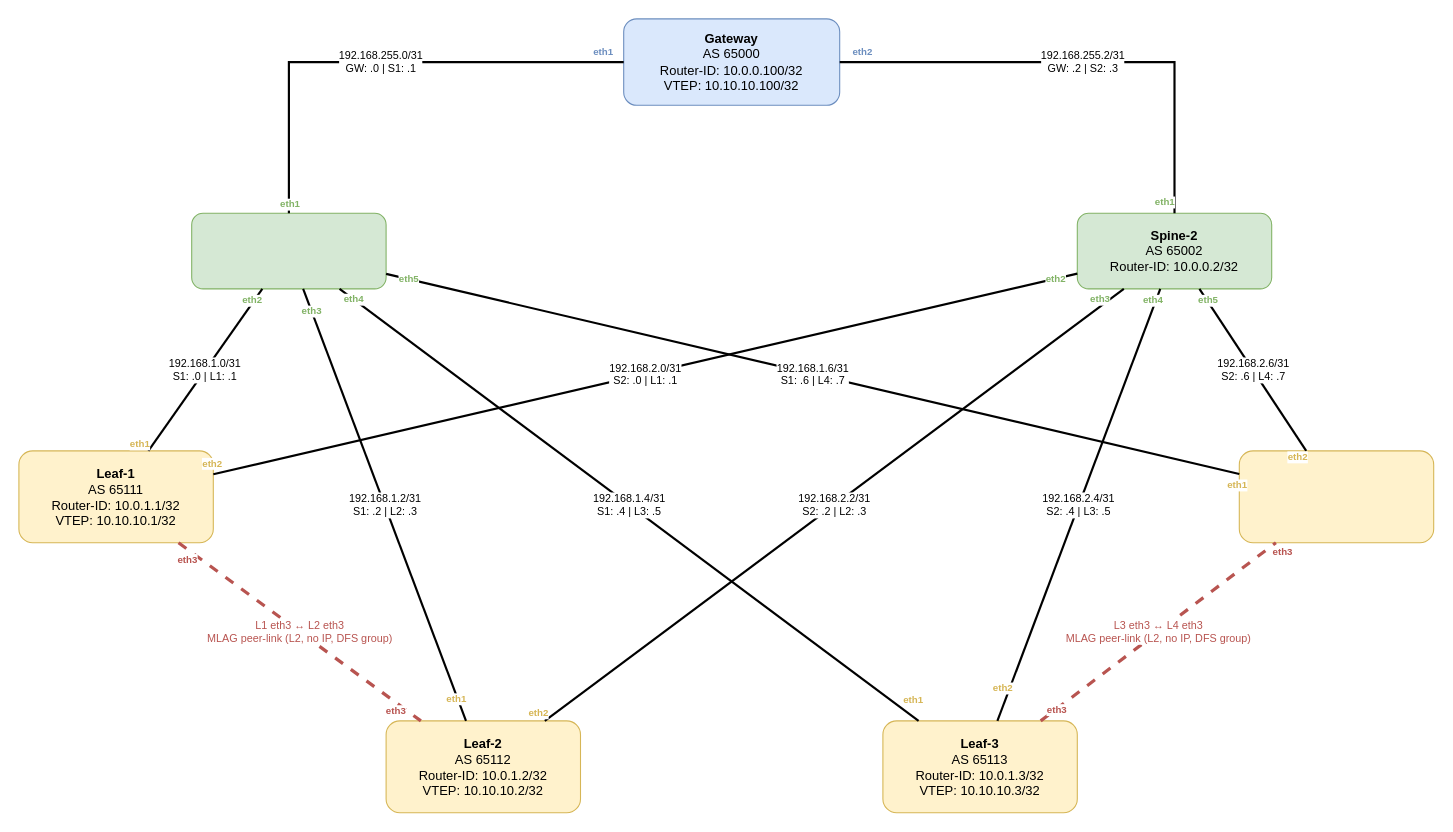
This 1453x832 diagram has some shape labels left out. Each missing label, with the box of its shape:
Leaf-4 AS 65114 Router-ID: 10.0.1.4/32 VTEP: 10.10.10.4/32: (1238, 450, 1434, 543)
Spine-1 AS 65001 Router-ID: 10.0.0.1/32: (191, 212, 386, 289)
